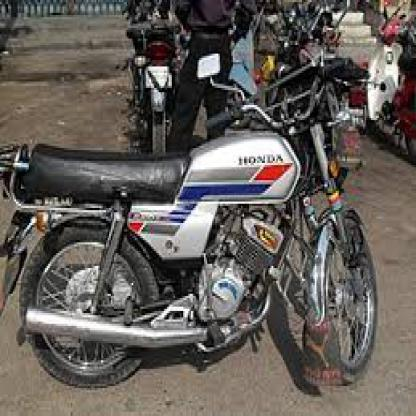Motorcycle: (3, 54, 387, 391)
